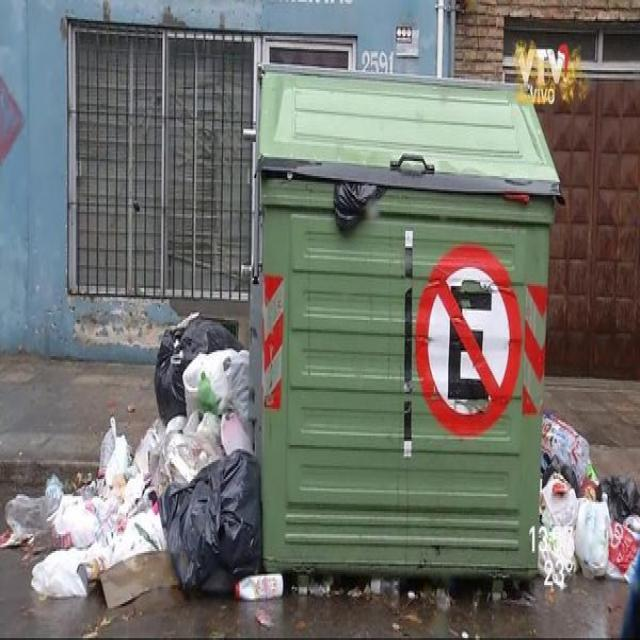garbage: (152, 306, 260, 634), (37, 426, 160, 636), (538, 402, 636, 636), (222, 562, 300, 621), (4, 482, 50, 550)
